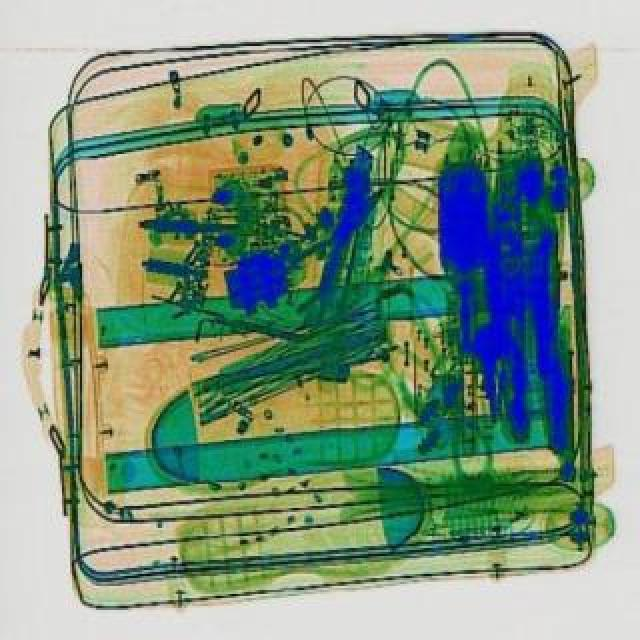wrench: (262, 174, 398, 314)
